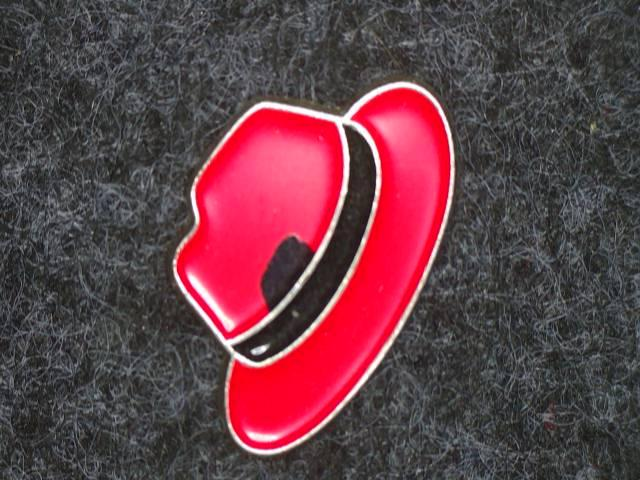Red-Hat: (139, 63, 483, 475)
Scratch: (238, 216, 332, 329)
